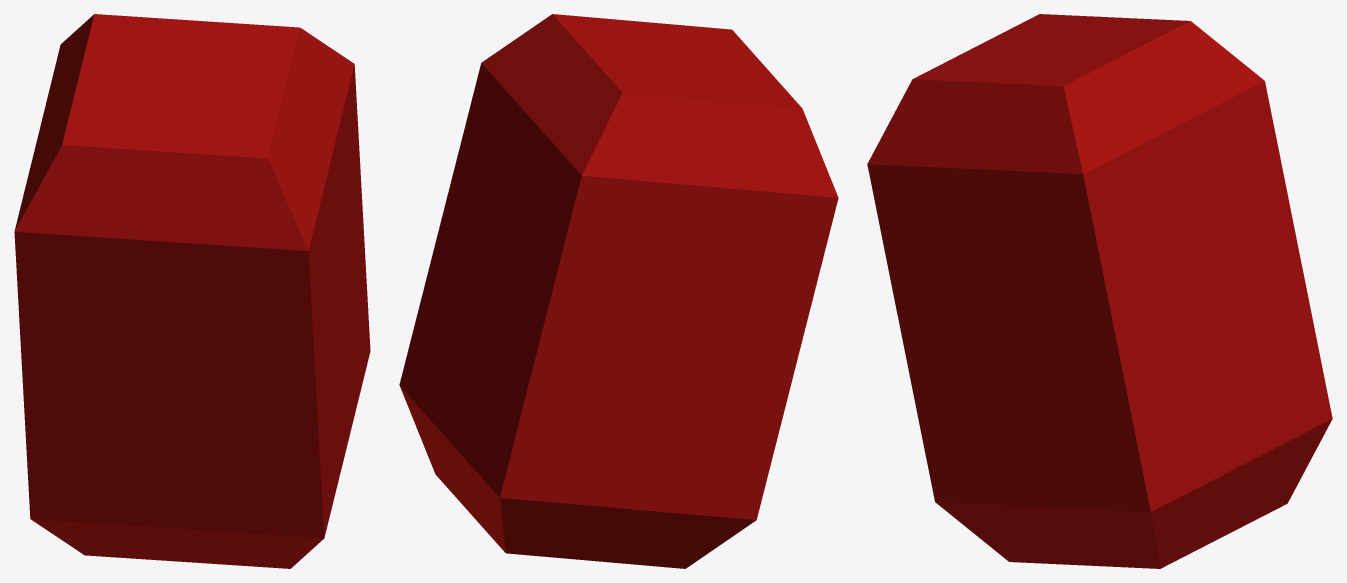
The model's file is town_jewel0014.obj.
3 renders of one model, left to right at view 1: azimuth 30°, elevation 25°; view 2: azimuth 150°, elevation 25°; view 3: azimuth 270°, elevation 25°, orthographic. The views are drawn at different scales.
Parts seen in each view (by area): view 1: RedJewel; view 2: RedJewel; view 3: RedJewel.
Part boxes in pixels (<box>): RedJewel: <box>14,14,370,568</box>; RedJewel: <box>399,14,838,568</box>; RedJewel: <box>867,14,1332,568</box>.
Bounding box in the file's own units: 1.01 × 1.21 × 1.04.
